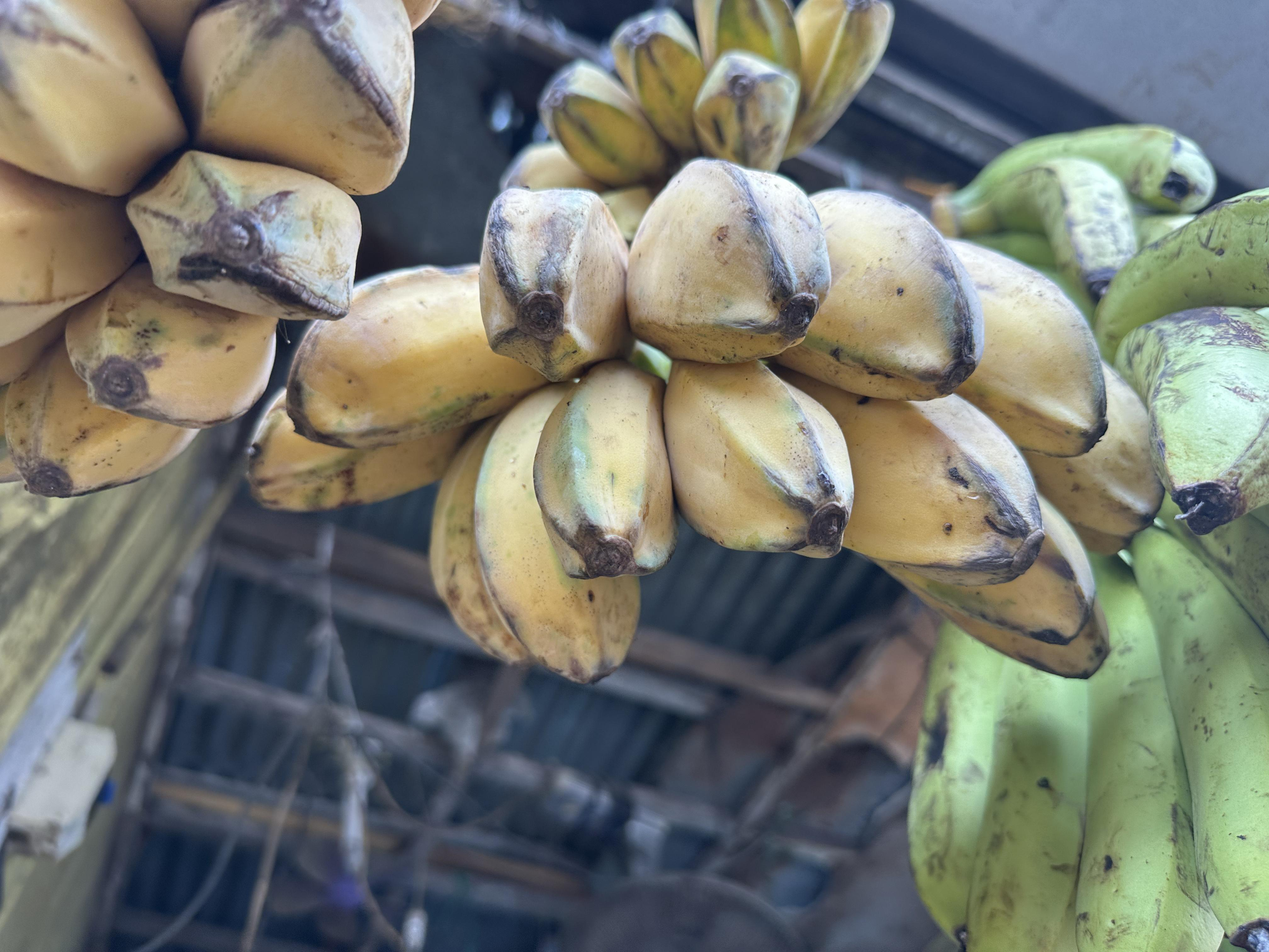ripe: (248, 162, 1162, 682), (0, 0, 439, 497)
underripe: (503, 0, 894, 243)
